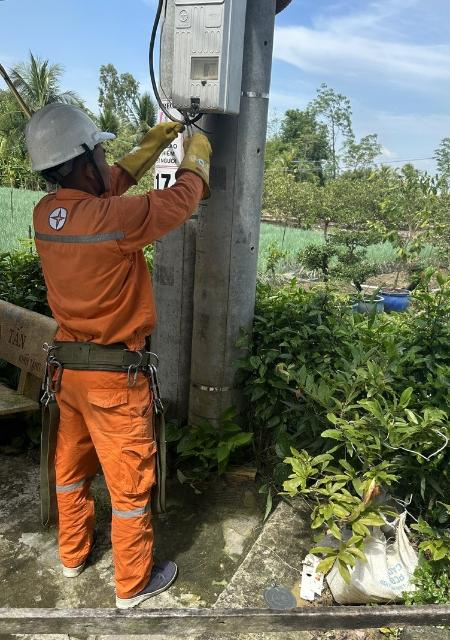gloves: (113, 109, 182, 181), (177, 133, 223, 201)
harness: (31, 334, 166, 390)
helmet: (15, 100, 122, 181)
shoes: (109, 556, 193, 613), (44, 509, 97, 584)
